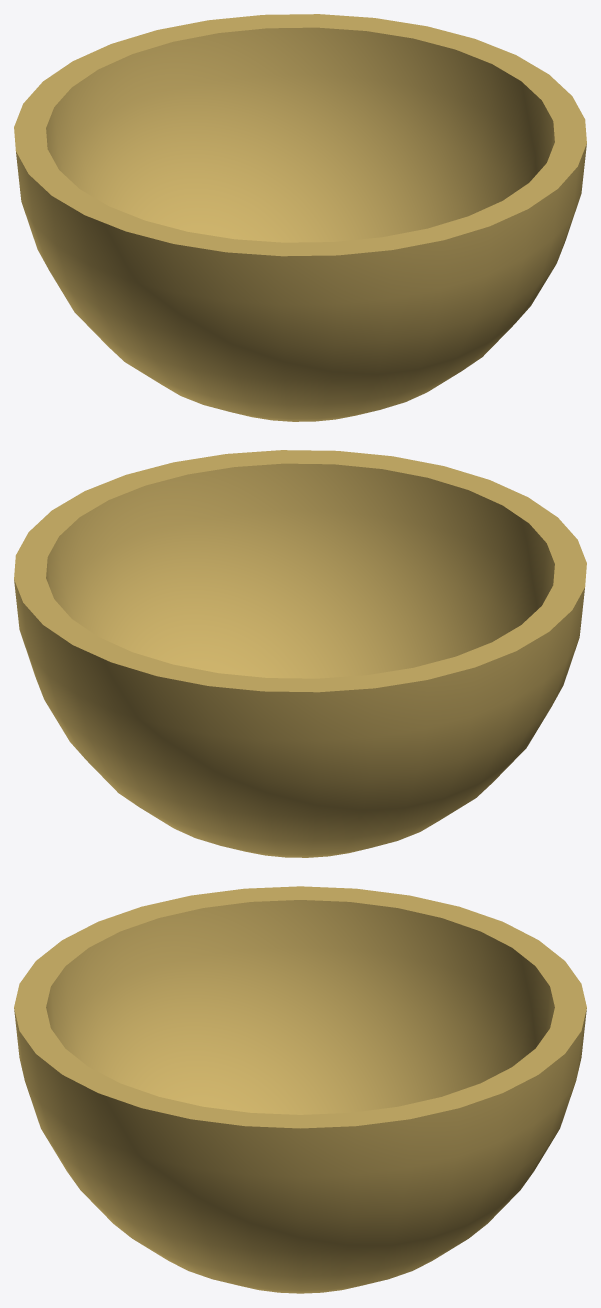
The model's file is SM_Bowl.fbx.
The picture shows the model from 3 angles, top to bottom: view 1: azimuth 30°, elevation 25°; view 2: azimuth 150°, elevation 25°; view 3: azimuth 270°, elevation 25°; orthographic projection.
Parts seen in each view (by area): view 1: SM_Bowl; view 2: SM_Bowl; view 3: SM_Bowl.
Part boxes in pixels (x1=…): SM_Bowl: x1=14, y1=14, x2=586, y2=421; SM_Bowl: x1=14, y1=450, x2=586, y2=857; SM_Bowl: x1=14, y1=886, x2=586, y2=1293.
Size of the model in its own units: 25.97 by 12.74 by 25.97.
